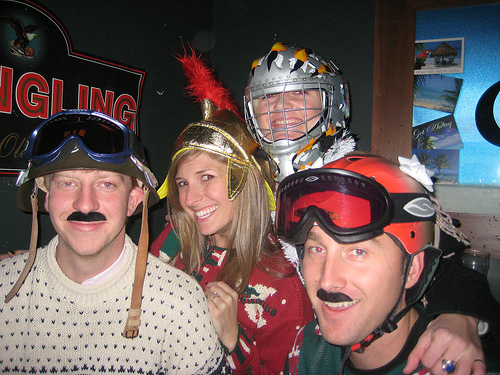helmet: (292, 150, 449, 247), (239, 44, 352, 121), (34, 117, 147, 178)
